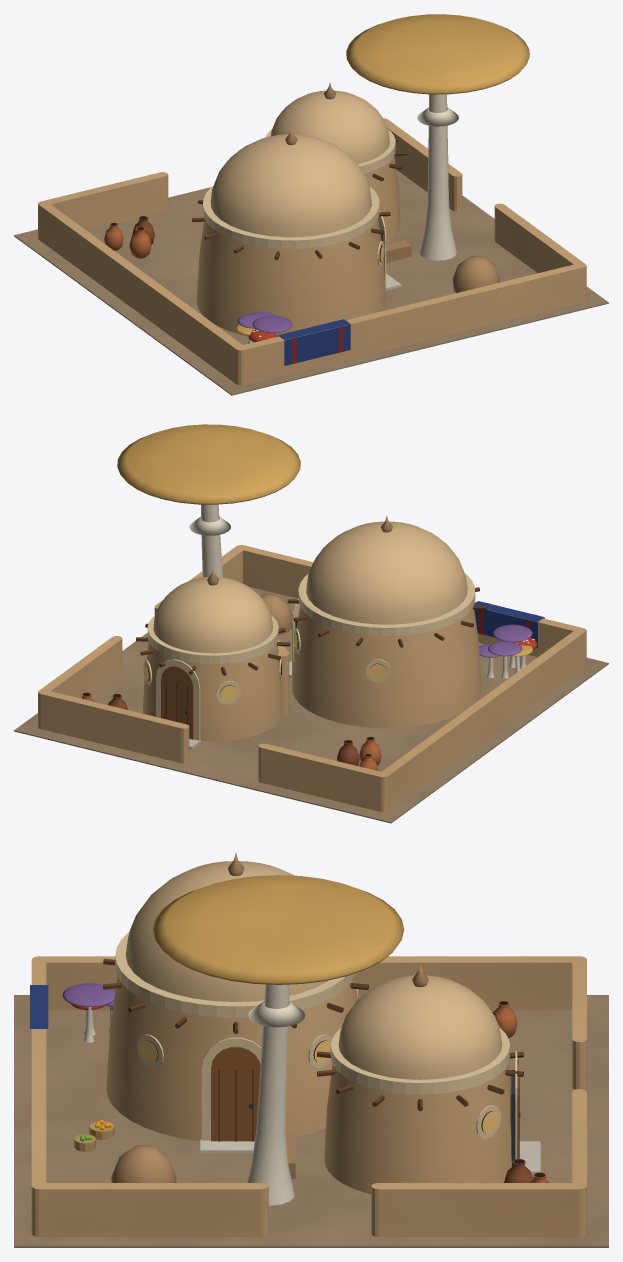
Rendered from hl_chyse.glb.
3 renders of one model, top to bottom at view 1: azimuth 30°, elevation 25°; view 2: azimuth 150°, elevation 25°; view 3: azimuth 270°, elevation 25°, orthographic. The views are drawn at different scales.
Parts seen in each view (by area): view 1: dum; view 2: dum, noc; view 3: dum, noc.
Boxes of the visible parts, box(x1,y1,x2,y2) form: dum: box(14, 14, 608, 395); dum: box(14, 424, 608, 823); noc: box(143, 633, 386, 700); dum: box(14, 852, 608, 1247); noc: box(140, 1041, 498, 1133).
Size of the model in its own units: 14.37 by 7.46 by 14.16.
1 material, 1 textured.
